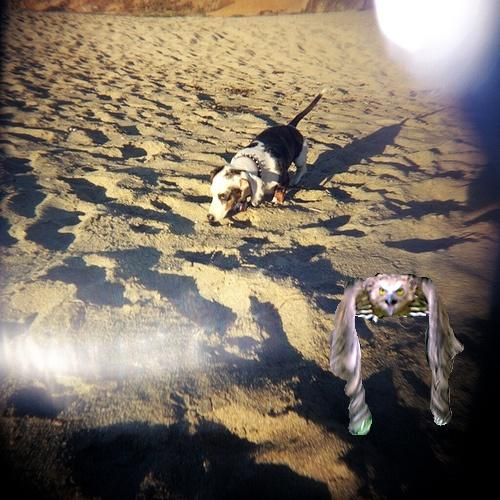tampered: (330, 274, 464, 435)
